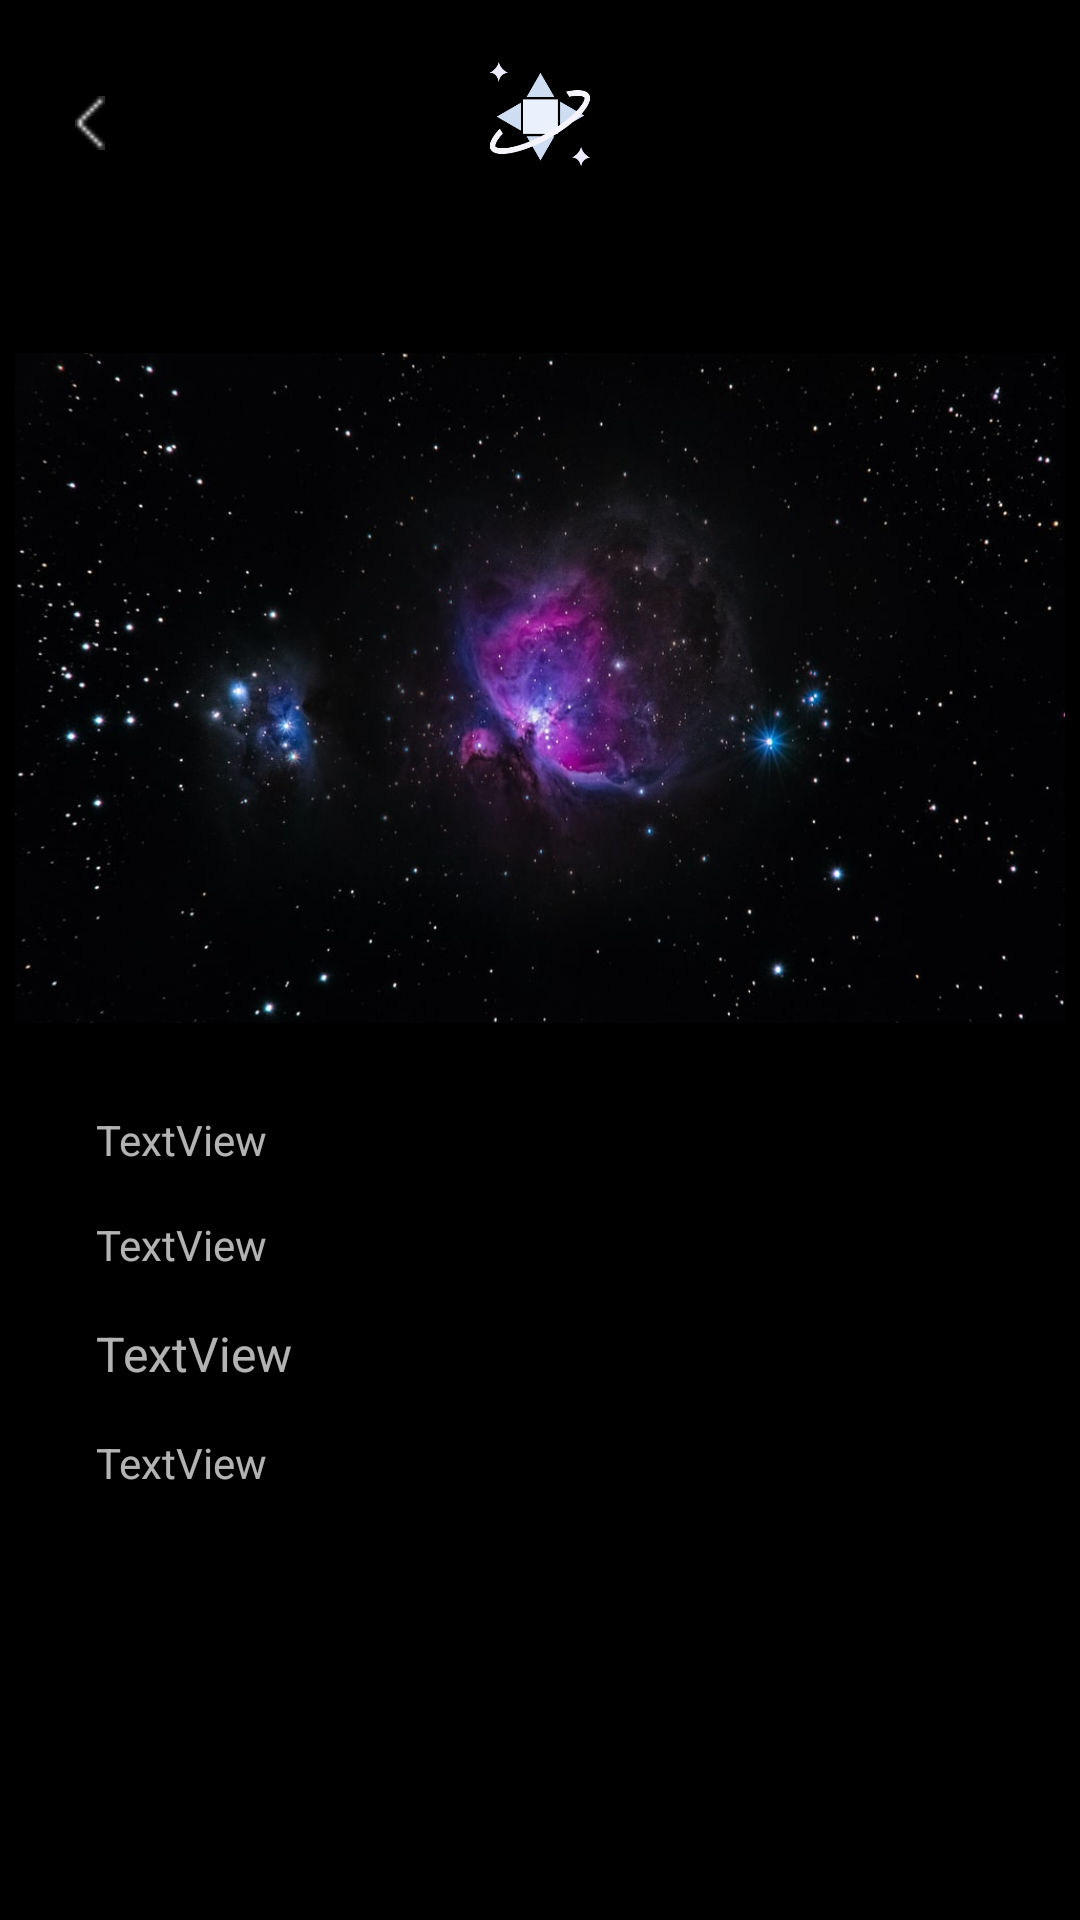

Icon bounding boxes for this 1080x1920 phone screenshot, format (x1, y1, x2, y2):
back: (75, 96, 105, 150)
